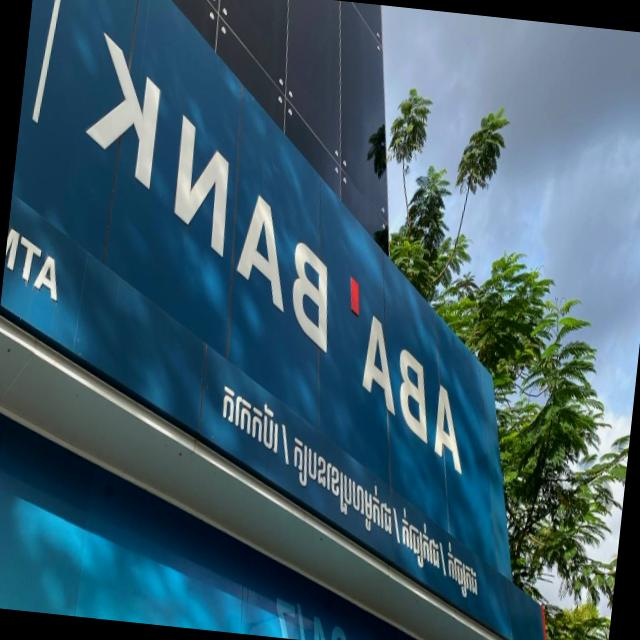Yolov11kh: (217, 373, 481, 617)
